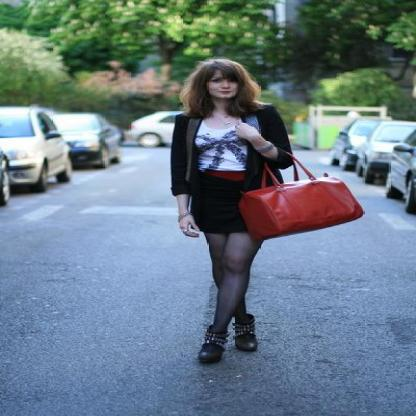bag: (239, 175, 362, 237)
jacket: (171, 103, 306, 197)
shirt: (195, 114, 250, 171)
shoe: (198, 324, 258, 364)
skirt: (190, 174, 259, 236)
